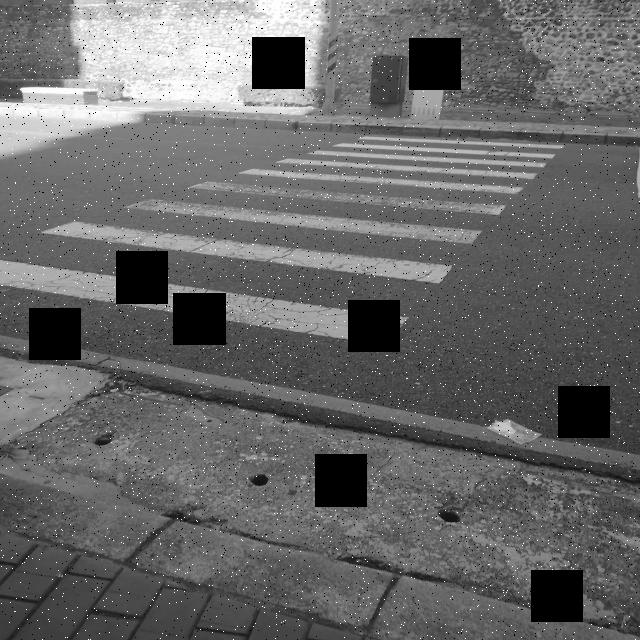zebra_crossing: (0, 138, 564, 343)
